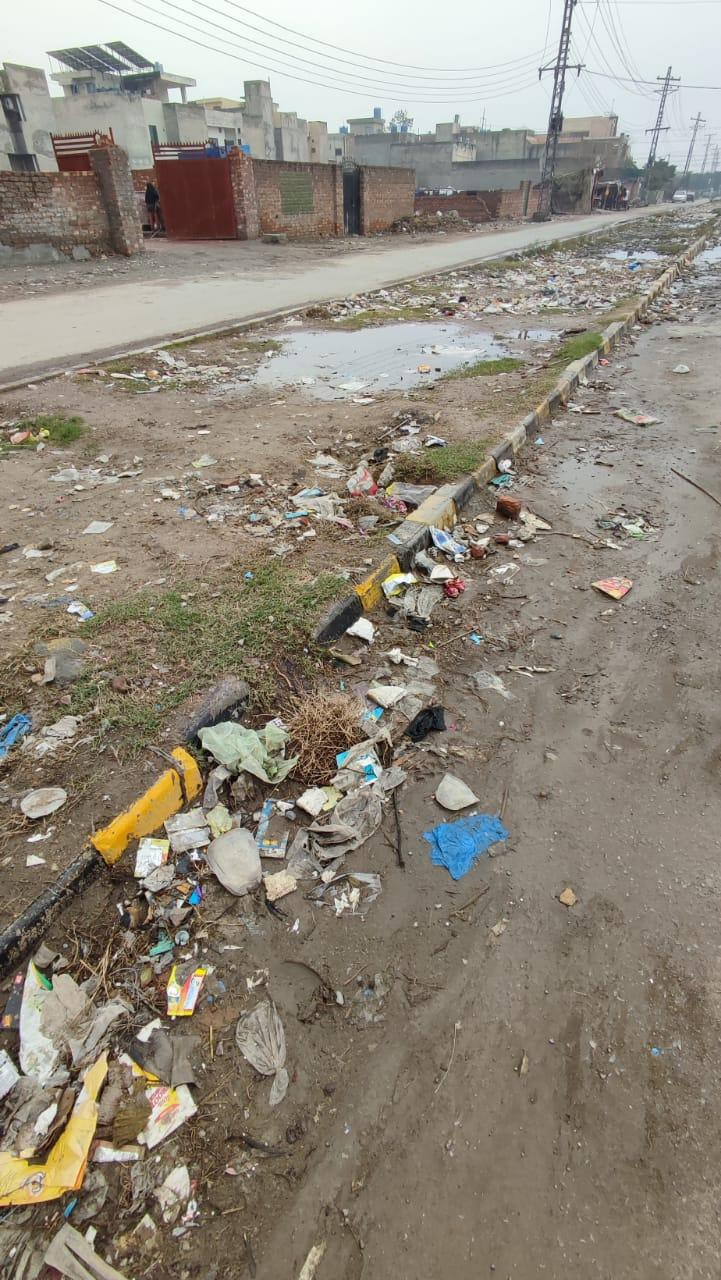garbage: (22, 558, 513, 1261), (438, 221, 717, 334)
